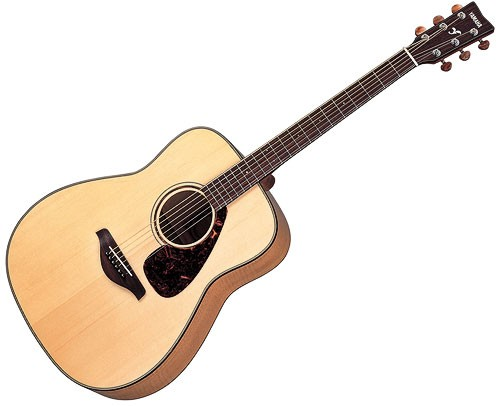guitar: (7, 1, 495, 401)
